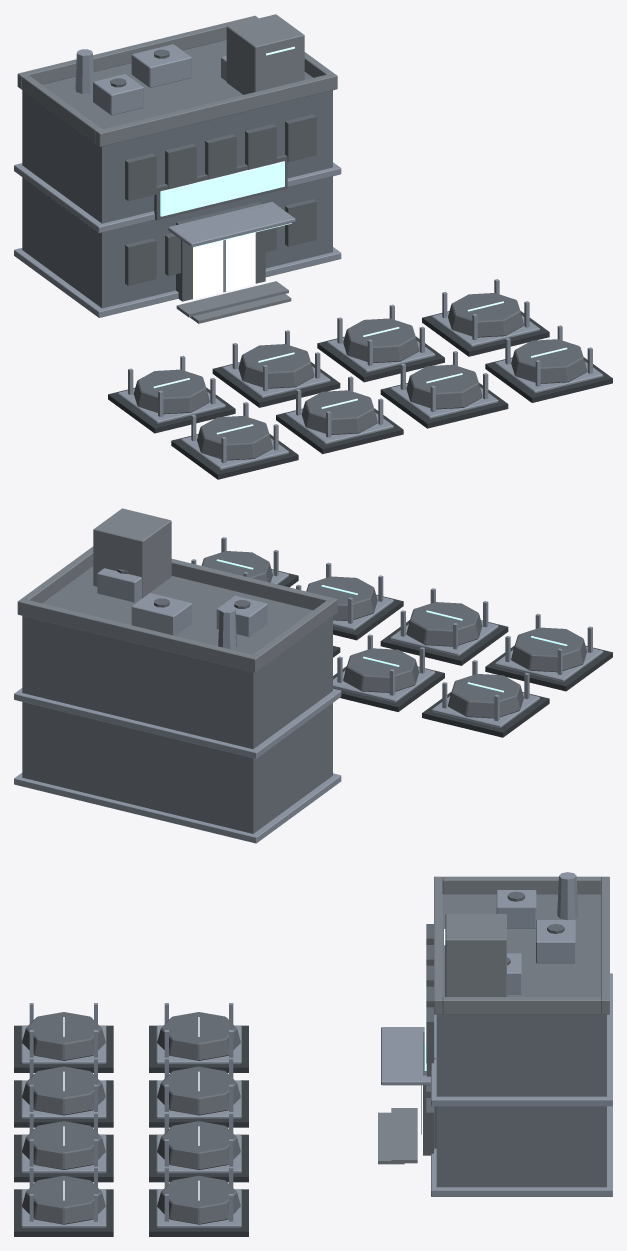
Rendered from specialist_yard.glb.
3 renders of one model, top to bottom at view 1: azimuth 30°, elevation 25°; view 2: azimuth 150°, elevation 25°; view 3: azimuth 270°, elevation 25°, orthographic. The views are drawn at different scales.
Parts seen in each view (by area): view 1: specialist_yard_Graphite@civic, specialist_yard_DarkAlloy@civic, specialist_yard_Steel@civic, specialist_yard_Concrete@civic, specialist_yard_Asphalt, specialist_yard_Cyan, specialist_yard_WarmGlass; view 2: specialist_yard_Graphite@civic, specialist_yard_Steel@civic, specialist_yard_Concrete@civic, specialist_yard_DarkAlloy@civic, specialist_yard_Asphalt, specialist_yard_Cyan; view 3: specialist_yard_Graphite@civic, specialist_yard_DarkAlloy@civic, specialist_yard_Steel@civic, specialist_yard_Concrete@civic, specialist_yard_Asphalt, specialist_yard_Cyan.
Part boxes in pixels (bbox=[...]): specialist_yard_Graphite@civic: bbox=[22, 40, 332, 308]; specialist_yard_DarkAlloy@civic: bbox=[110, 49, 586, 460]; specialist_yard_Steel@civic: bbox=[14, 44, 603, 470]; specialist_yard_Concrete@civic: bbox=[17, 14, 337, 323]; specialist_yard_Asphalt: bbox=[108, 311, 612, 479]; specialist_yard_Cyan: bbox=[153, 46, 567, 434]; specialist_yard_WarmGlass: bbox=[193, 232, 255, 299]; specialist_yard_Graphite@civic: bbox=[22, 566, 332, 833]; specialist_yard_Steel@civic: bbox=[14, 537, 603, 843]; specialist_yard_Concrete@civic: bbox=[17, 508, 337, 672]; specialist_yard_DarkAlloy@civic: bbox=[117, 551, 587, 718]; specialist_yard_Asphalt: bbox=[271, 569, 612, 737]; specialist_yard_Cyan: bbox=[216, 559, 567, 692]; specialist_yard_Graphite@civic: bbox=[436, 894, 606, 1187]; specialist_yard_DarkAlloy@civic: bbox=[22, 891, 564, 1224]; specialist_yard_Steel@civic: bbox=[21, 872, 612, 1227]; specialist_yard_Concrete@civic: bbox=[378, 876, 609, 1164]; specialist_yard_Asphalt: bbox=[14, 1025, 248, 1236]; specialist_yard_Cyan: bbox=[63, 929, 445, 1200].
Size of the model in its own units: 16.6 by 9.33 by 20.4.
